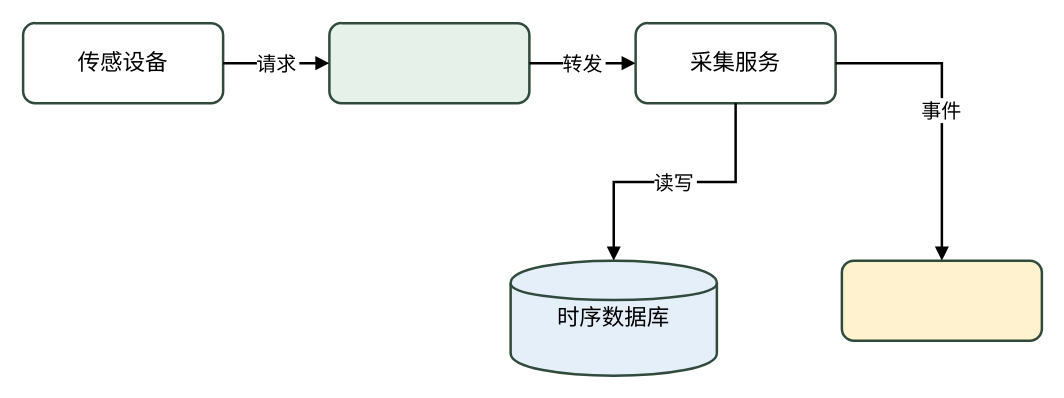
Some shapes in this 1064 by 398 pixel diagram are drawn without their labels. Each missing label, with the centre of its shape:
"告警服务" belongs at (x=941, y=300).
"消息网关" belongs at (x=429, y=62).
